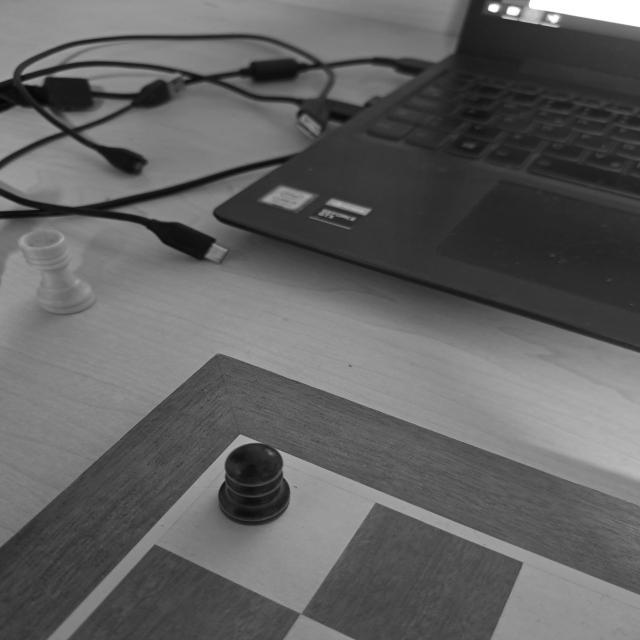chess-table-corners: (185, 424, 308, 479)
